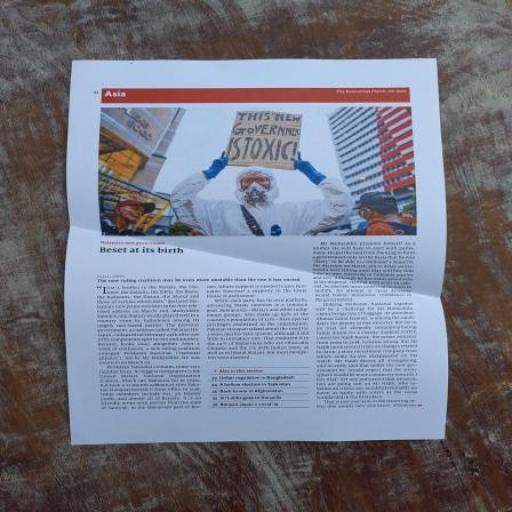paper: (9, 27, 512, 472)
